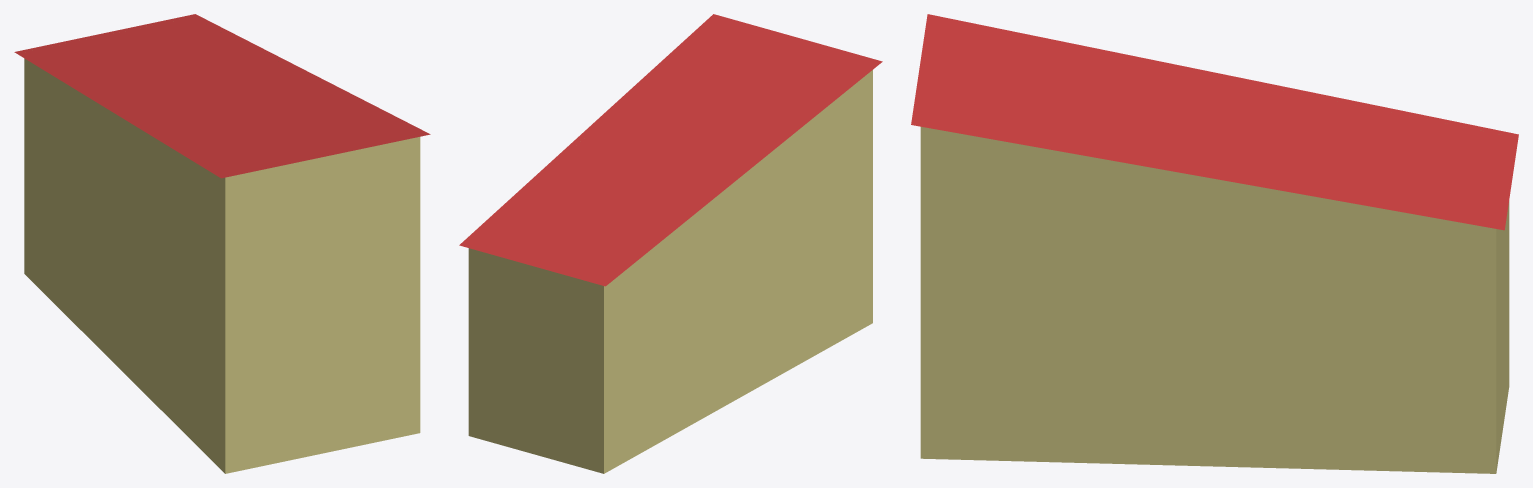
3 views of the same model, side by side, from view 1: azimuth 30°, elevation 25°; view 2: azimuth 150°, elevation 25°; view 3: azimuth 270°, elevation 25° (orthographic). The views are drawn at different scales.
Visible parts, largest first — view 1: group_5, group_3, group_4; view 2: group_5, group_3, group_4; view 3: group_5, group_3, group_4.
Part boxes in pixels (bbox=[...]): group_5: bbox=[24, 58, 420, 473]; group_3: bbox=[18, 15, 430, 178]; group_4: bbox=[14, 14, 331, 138]; group_5: bbox=[468, 70, 872, 473]; group_3: bbox=[461, 14, 882, 282]; group_4: bbox=[459, 104, 792, 286]; group_5: bbox=[920, 126, 1509, 473]; group_3: bbox=[911, 14, 1510, 229]; group_4: bbox=[1105, 54, 1518, 230].
Size of the model in its own units: 8.34 by 16.91 by 10.35.
